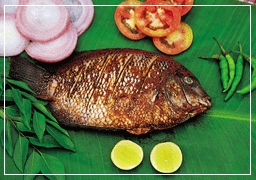fish: (5, 43, 220, 141)
